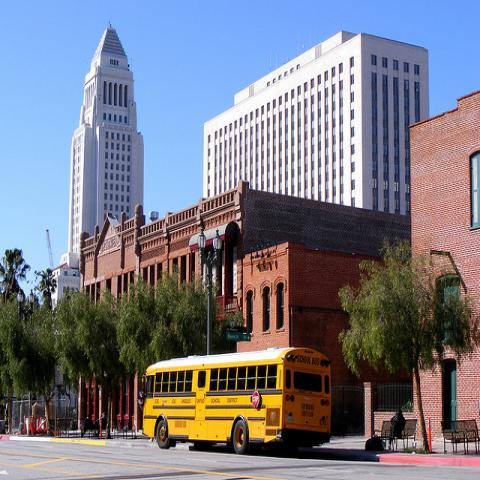bus: (144, 348, 330, 455)
